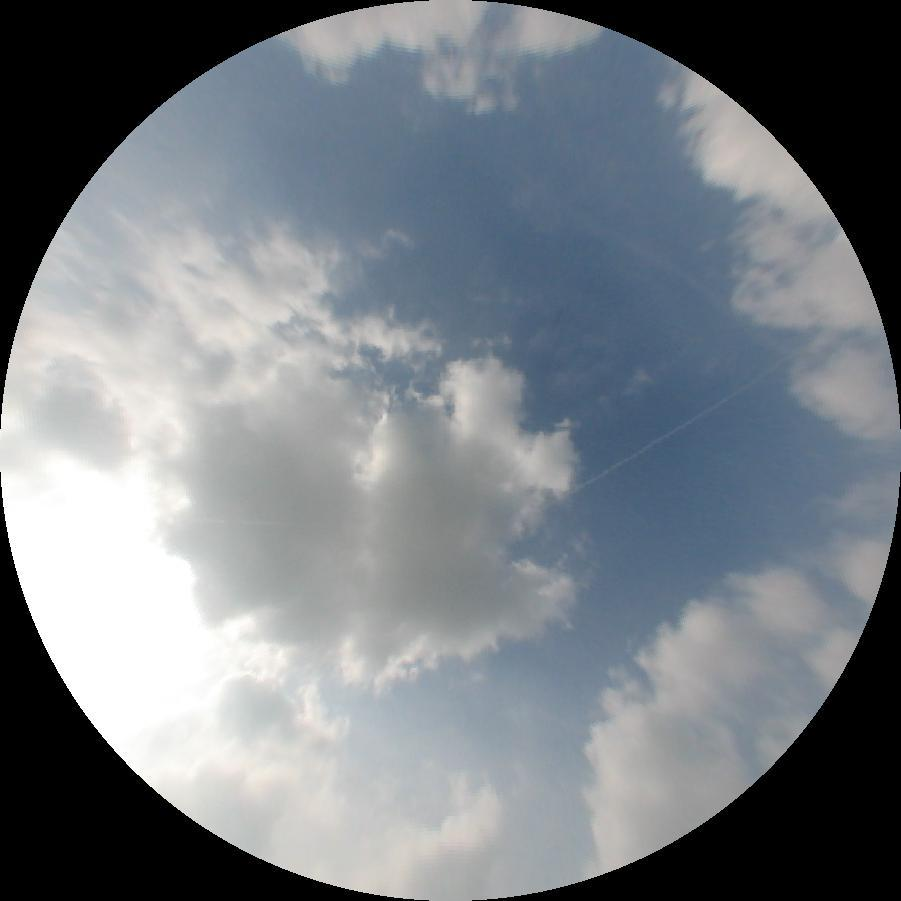contrail old: (565, 354, 791, 499)
sun: (0, 428, 258, 764)
